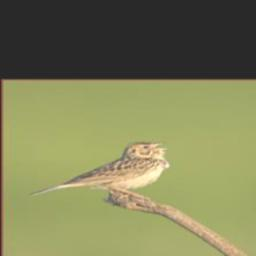Sparrow: (27, 141, 169, 201)
